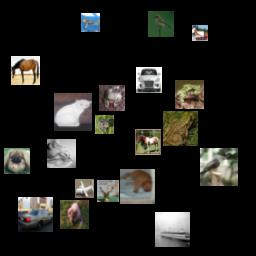airplane: (75, 179, 94, 198), (81, 13, 100, 32)
automobile: (18, 197, 53, 232), (136, 67, 162, 93)
bird: (200, 148, 238, 186), (148, 11, 174, 37)
cat: (54, 93, 92, 131), (47, 139, 76, 168)
deer: (97, 180, 119, 202)
dog: (120, 169, 155, 204), (60, 200, 89, 229), (4, 148, 30, 174)
frog: (163, 111, 198, 146), (175, 80, 204, 109), (99, 85, 125, 111), (95, 115, 114, 134)
ship: (155, 212, 190, 247)
truck: (192, 25, 208, 41)
